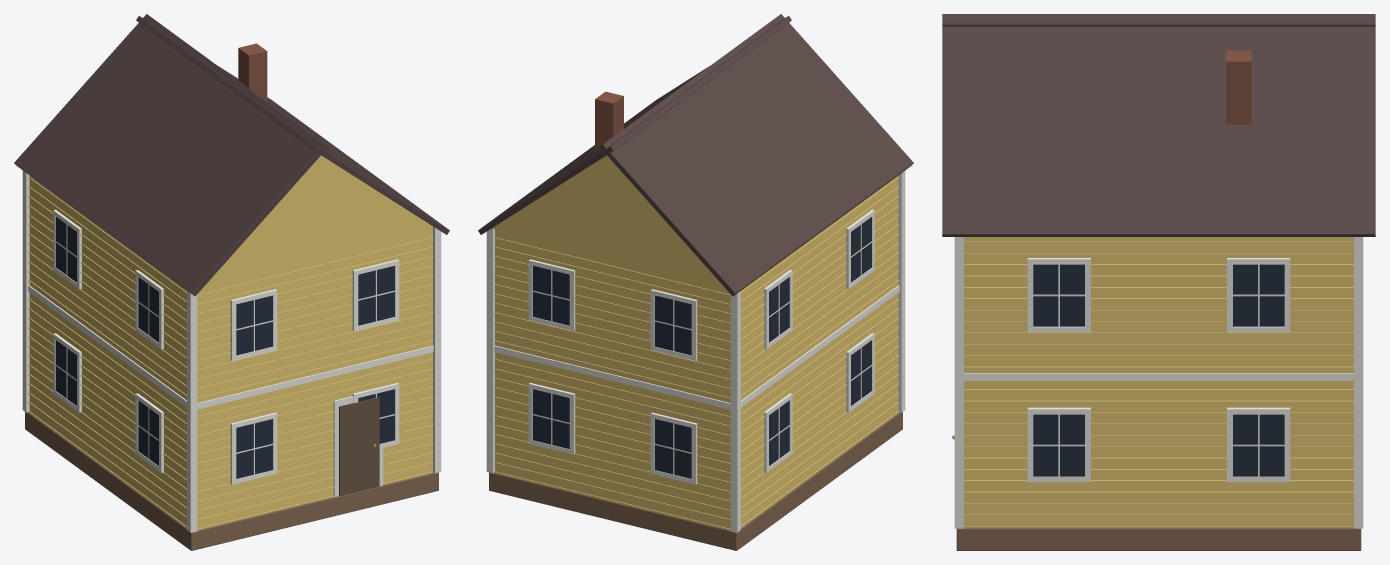
The model's file is house_yellow.glb.
3 renders of one model, left to right at view 1: azimuth 30°, elevation 25°; view 2: azimuth 150°, elevation 25°; view 3: azimuth 270°, elevation 25°, orthographic. The views are drawn at different scales.
Visible parts, largest first — view 1: body, roof, gable, base, door, roof.001, corner, corner.002, corner.001, glass.010, glass.008, glass (+17 smaller); view 2: body, roof, gable.001, base, roof.001, corner.001, corner.003, corner, glass.011, glass.009, glass.001, glass.003 (+18 smaller); view 3: roof.001, body, base, roof, glass.005, glass.007, glass.013, glass.015, band.003, corner.002, corner.003, chimney (+25 smaller).
Part boxes in pixels (bbox=[...]): body: bbox=[29, 176, 432, 528]; roof: bbox=[14, 14, 327, 296]; gable: bbox=[211, 155, 431, 279]; base: bbox=[25, 412, 438, 550]; door: bbox=[339, 397, 379, 496]; roof.001: bbox=[136, 16, 449, 234]; corner: bbox=[187, 291, 197, 532]; corner.002: bbox=[433, 226, 441, 473]; corner.001: bbox=[22, 170, 29, 412]; glass.010: bbox=[358, 265, 394, 325]; glass.008: bbox=[236, 295, 272, 355]; glass: bbox=[236, 419, 272, 478]; body: bbox=[495, 176, 898, 528]; roof: bbox=[600, 14, 913, 296]; gable.001: bbox=[492, 155, 721, 284]; base: bbox=[489, 412, 902, 550]; roof.001: bbox=[478, 16, 791, 234]; corner.001: bbox=[730, 291, 740, 532]; corner.003: bbox=[486, 228, 494, 473]; corner: bbox=[898, 170, 905, 412]; glass.011: bbox=[533, 265, 569, 325]; glass.009: bbox=[655, 295, 691, 355]; glass.001: bbox=[655, 419, 691, 478]; glass.003: bbox=[533, 389, 569, 448]; roof.001: bbox=[942, 14, 1375, 236]; body: bbox=[964, 237, 1353, 525]; base: bbox=[956, 527, 1361, 550]; roof: bbox=[942, 18, 1375, 26]; glass.005: bbox=[1033, 414, 1084, 476]; glass.007: bbox=[1233, 414, 1284, 476]; glass.013: bbox=[1033, 264, 1084, 326]; glass.015: bbox=[1233, 264, 1284, 326]; band.003: bbox=[964, 373, 1353, 380]; corner.002: bbox=[954, 237, 963, 528]; corner.003: bbox=[1354, 237, 1363, 528]; chimney: bbox=[1226, 50, 1251, 124].
Size of the model in its own units: 6.34 by 8.93 by 7.6.
